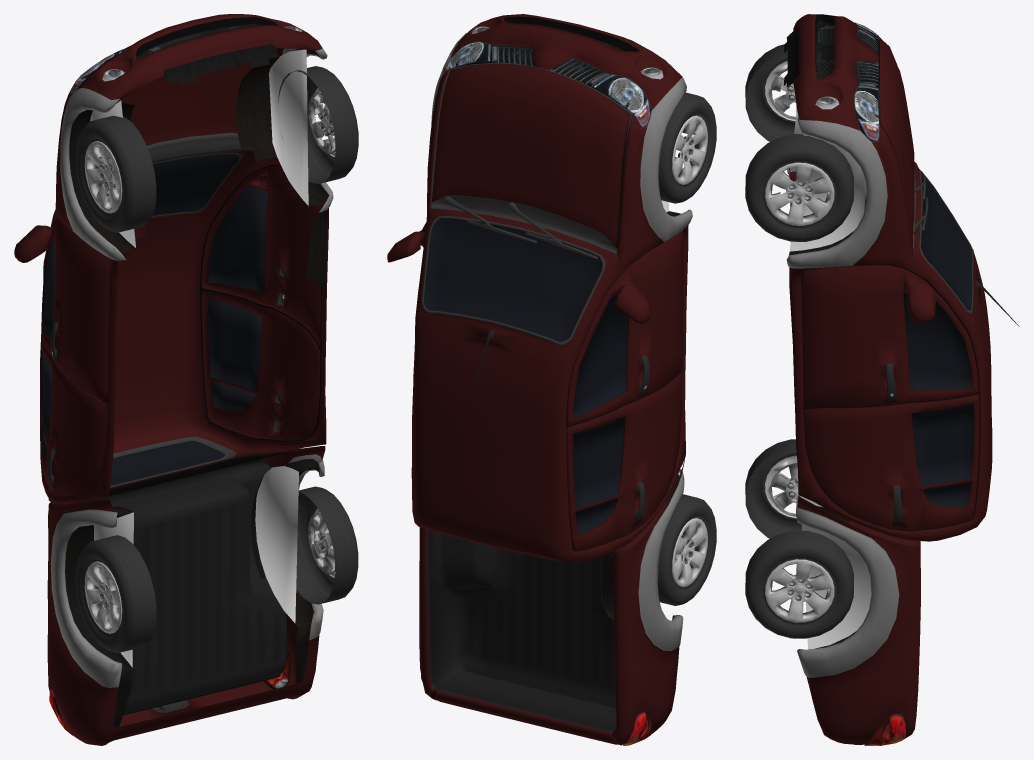
File: car_v2.fbx
The picture shows the model from 3 angles, left to right: view 1: azimuth 30°, elevation 25°; view 2: azimuth 150°, elevation 25°; view 3: azimuth 270°, elevation 25°; orthographic projection. The views are drawn at different scales.
Parts seen in each view (by area): view 1: L200-OBJ; view 2: L200-OBJ; view 3: L200-OBJ.
Part boxes in pixels (x1=…): L200-OBJ: x1=14, y1=14, x2=358, y2=745; L200-OBJ: x1=387, y1=14, x2=716, y2=745; L200-OBJ: x1=745, y1=14, x2=1019, y2=745.
Bounding box in the file's own units: 0.0371 × 0.0925 × 0.0346.
2 materials, 1 textured.
